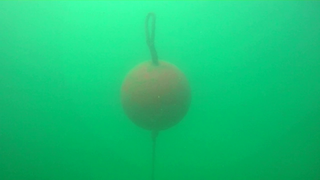buoy: (120, 60, 191, 131)
